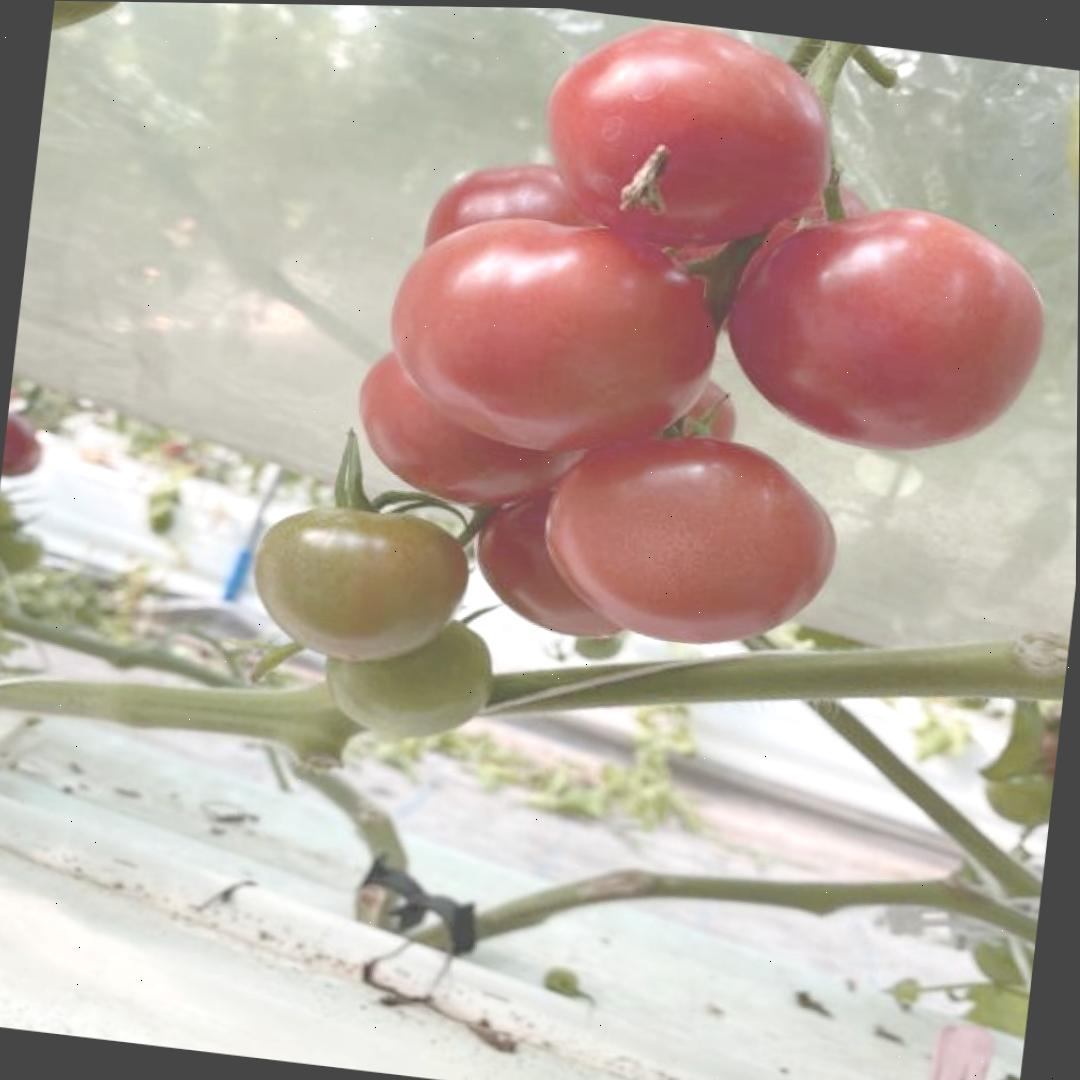matang: (719, 190, 1057, 470), (377, 205, 726, 467), (531, 9, 848, 267), (530, 419, 845, 660)
mentah: (242, 494, 480, 677)
